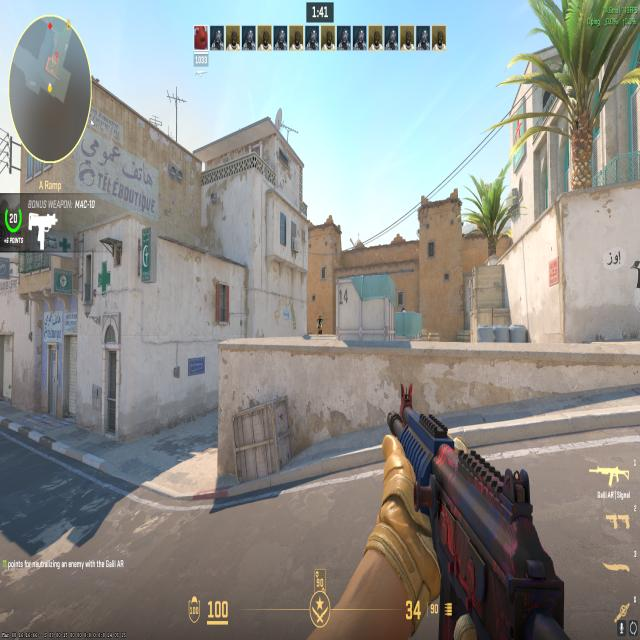ct: (398, 304, 407, 313)
t: (316, 316, 324, 336)
